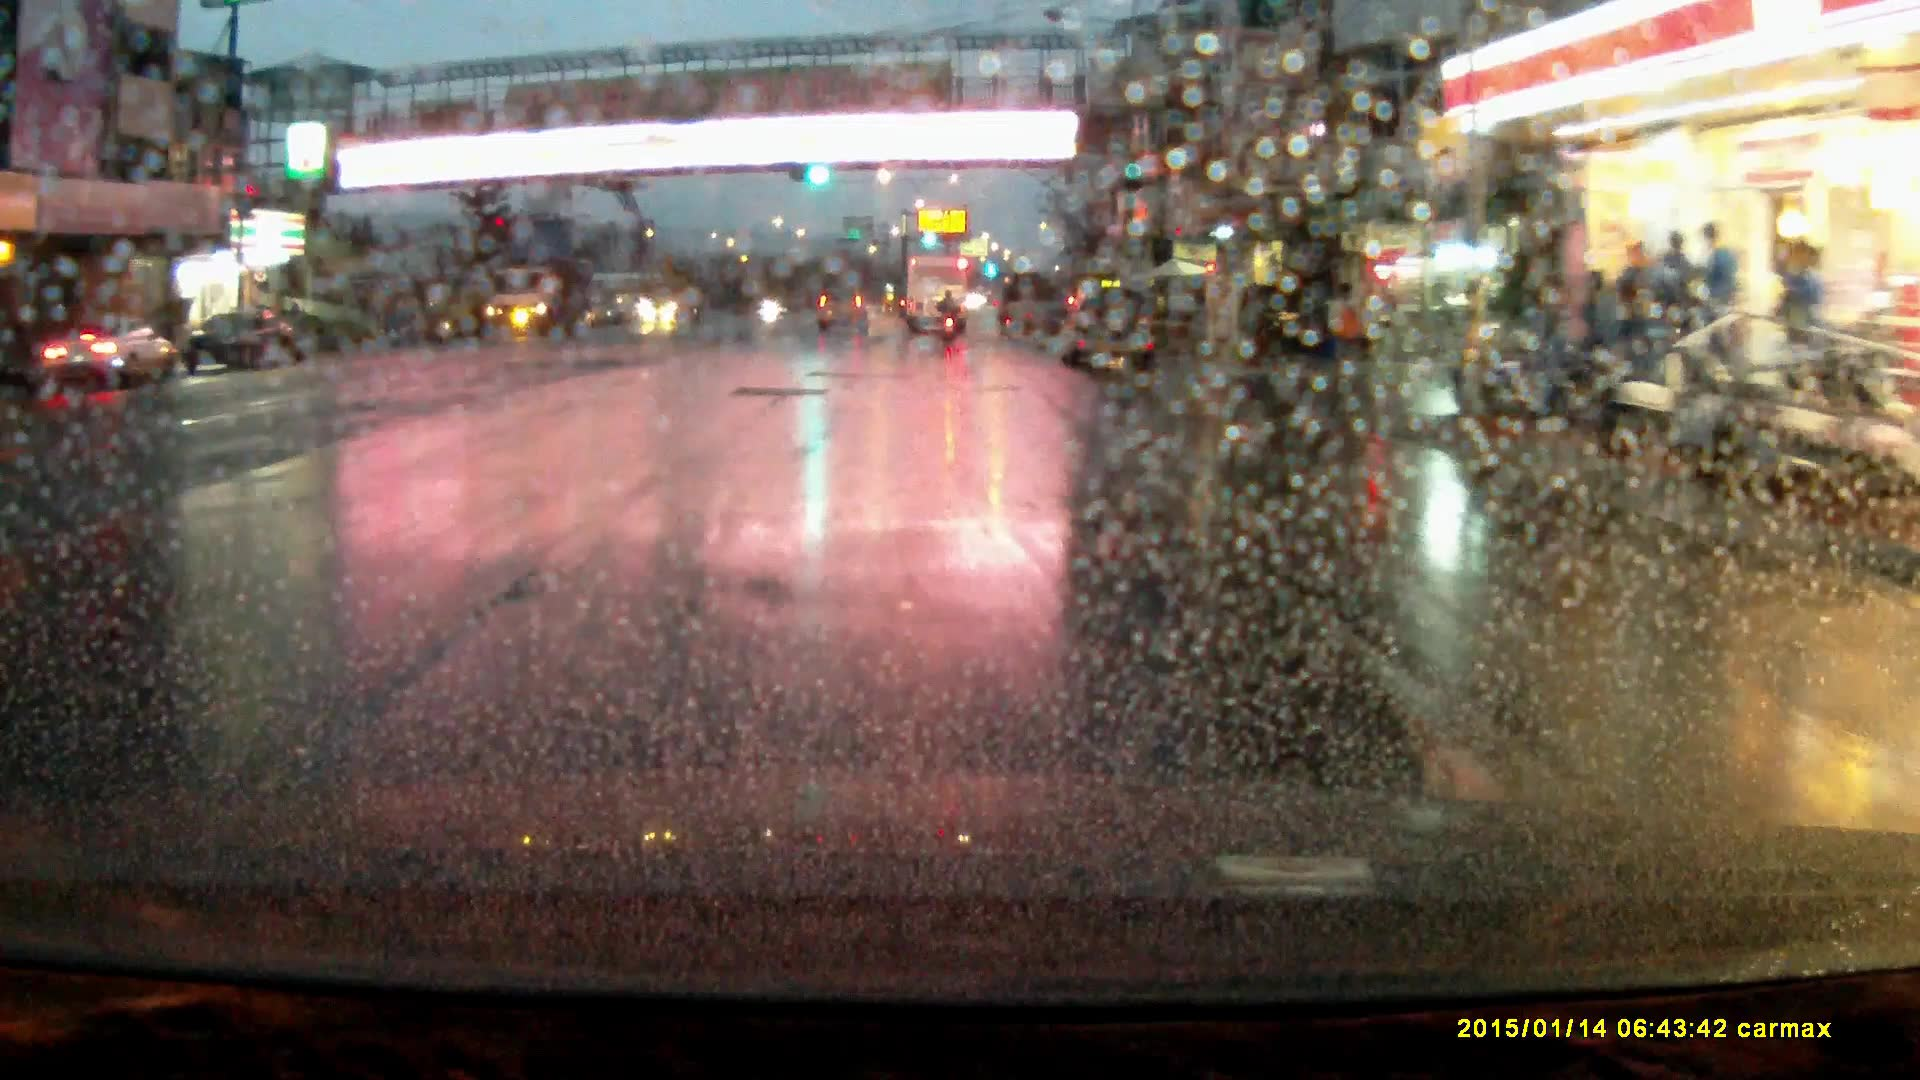rider: (939, 288, 963, 345)
vehicle: (49, 316, 171, 392), (1059, 288, 1155, 378), (176, 310, 303, 376), (485, 261, 591, 340), (1242, 282, 1329, 356), (906, 258, 972, 336), (638, 283, 708, 328), (817, 291, 871, 338)
